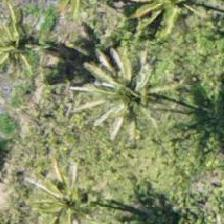coconut_tree: (84, 48, 174, 138), (26, 156, 116, 223), (0, 3, 63, 93)
